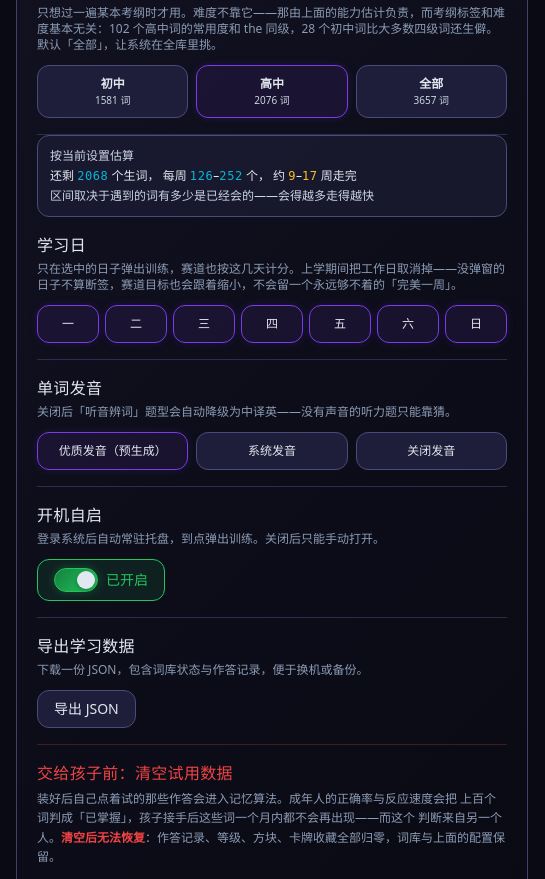
Scenario: 设置面板 › 保存失败时报错并重新载入，不留下与后端不符的界面
(page scrolled)
Click the button "关闭发音".
click(431, 451)  # box 356,432 -> 507,470
(page scrolled)
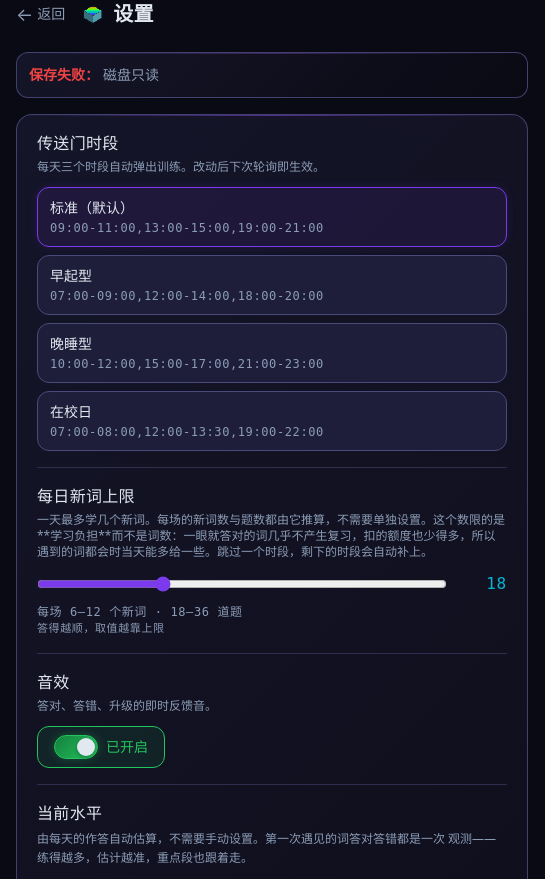
Check: the text "磁盘只读" is shown, box 103,65 -> 159,84
